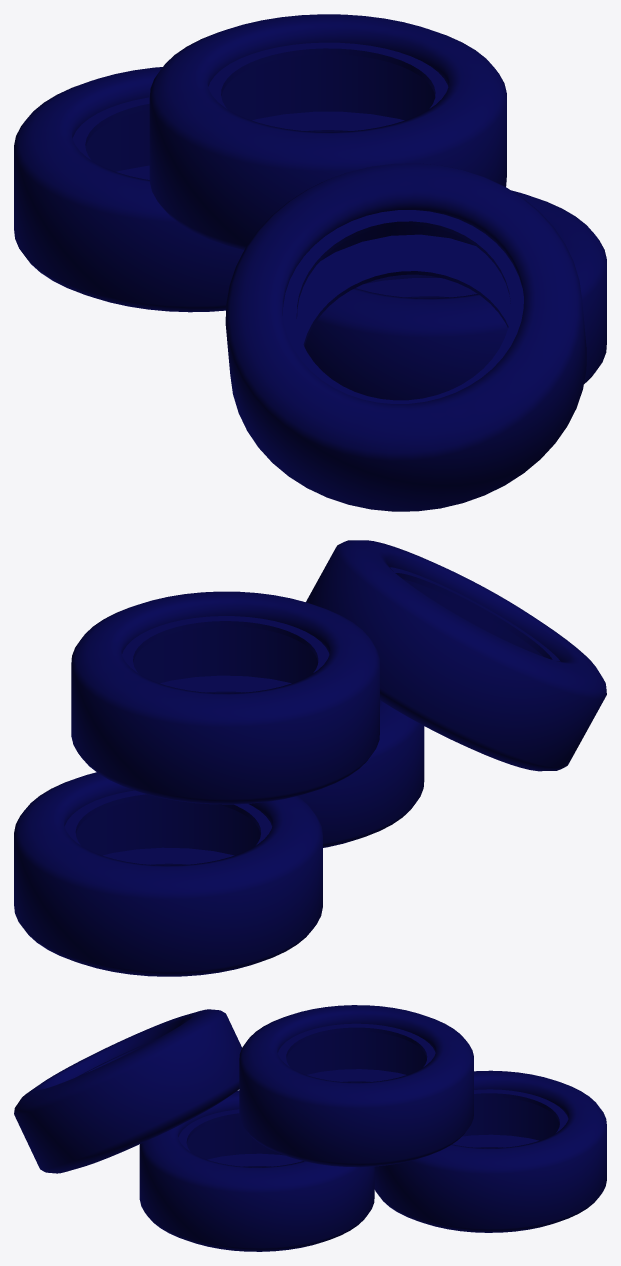
The model's file is SM_TireStacked02.fbx.
3 views of the same model, one above another, from view 1: azimuth 30°, elevation 25°; view 2: azimuth 150°, elevation 25°; view 3: azimuth 270°, elevation 25° (orthographic). The views are drawn at different scales.
Parts seen in each view (by area): view 1: TireStacked02; view 2: TireStacked02; view 3: TireStacked02.
Boxes of the visible parts, x1,y1,x2,y2 form: TireStacked02: [14, 14, 606, 511]; TireStacked02: [14, 540, 606, 976]; TireStacked02: [14, 1005, 606, 1251].
Size of the model in its own units: 98.2 by 53.93 by 178.
